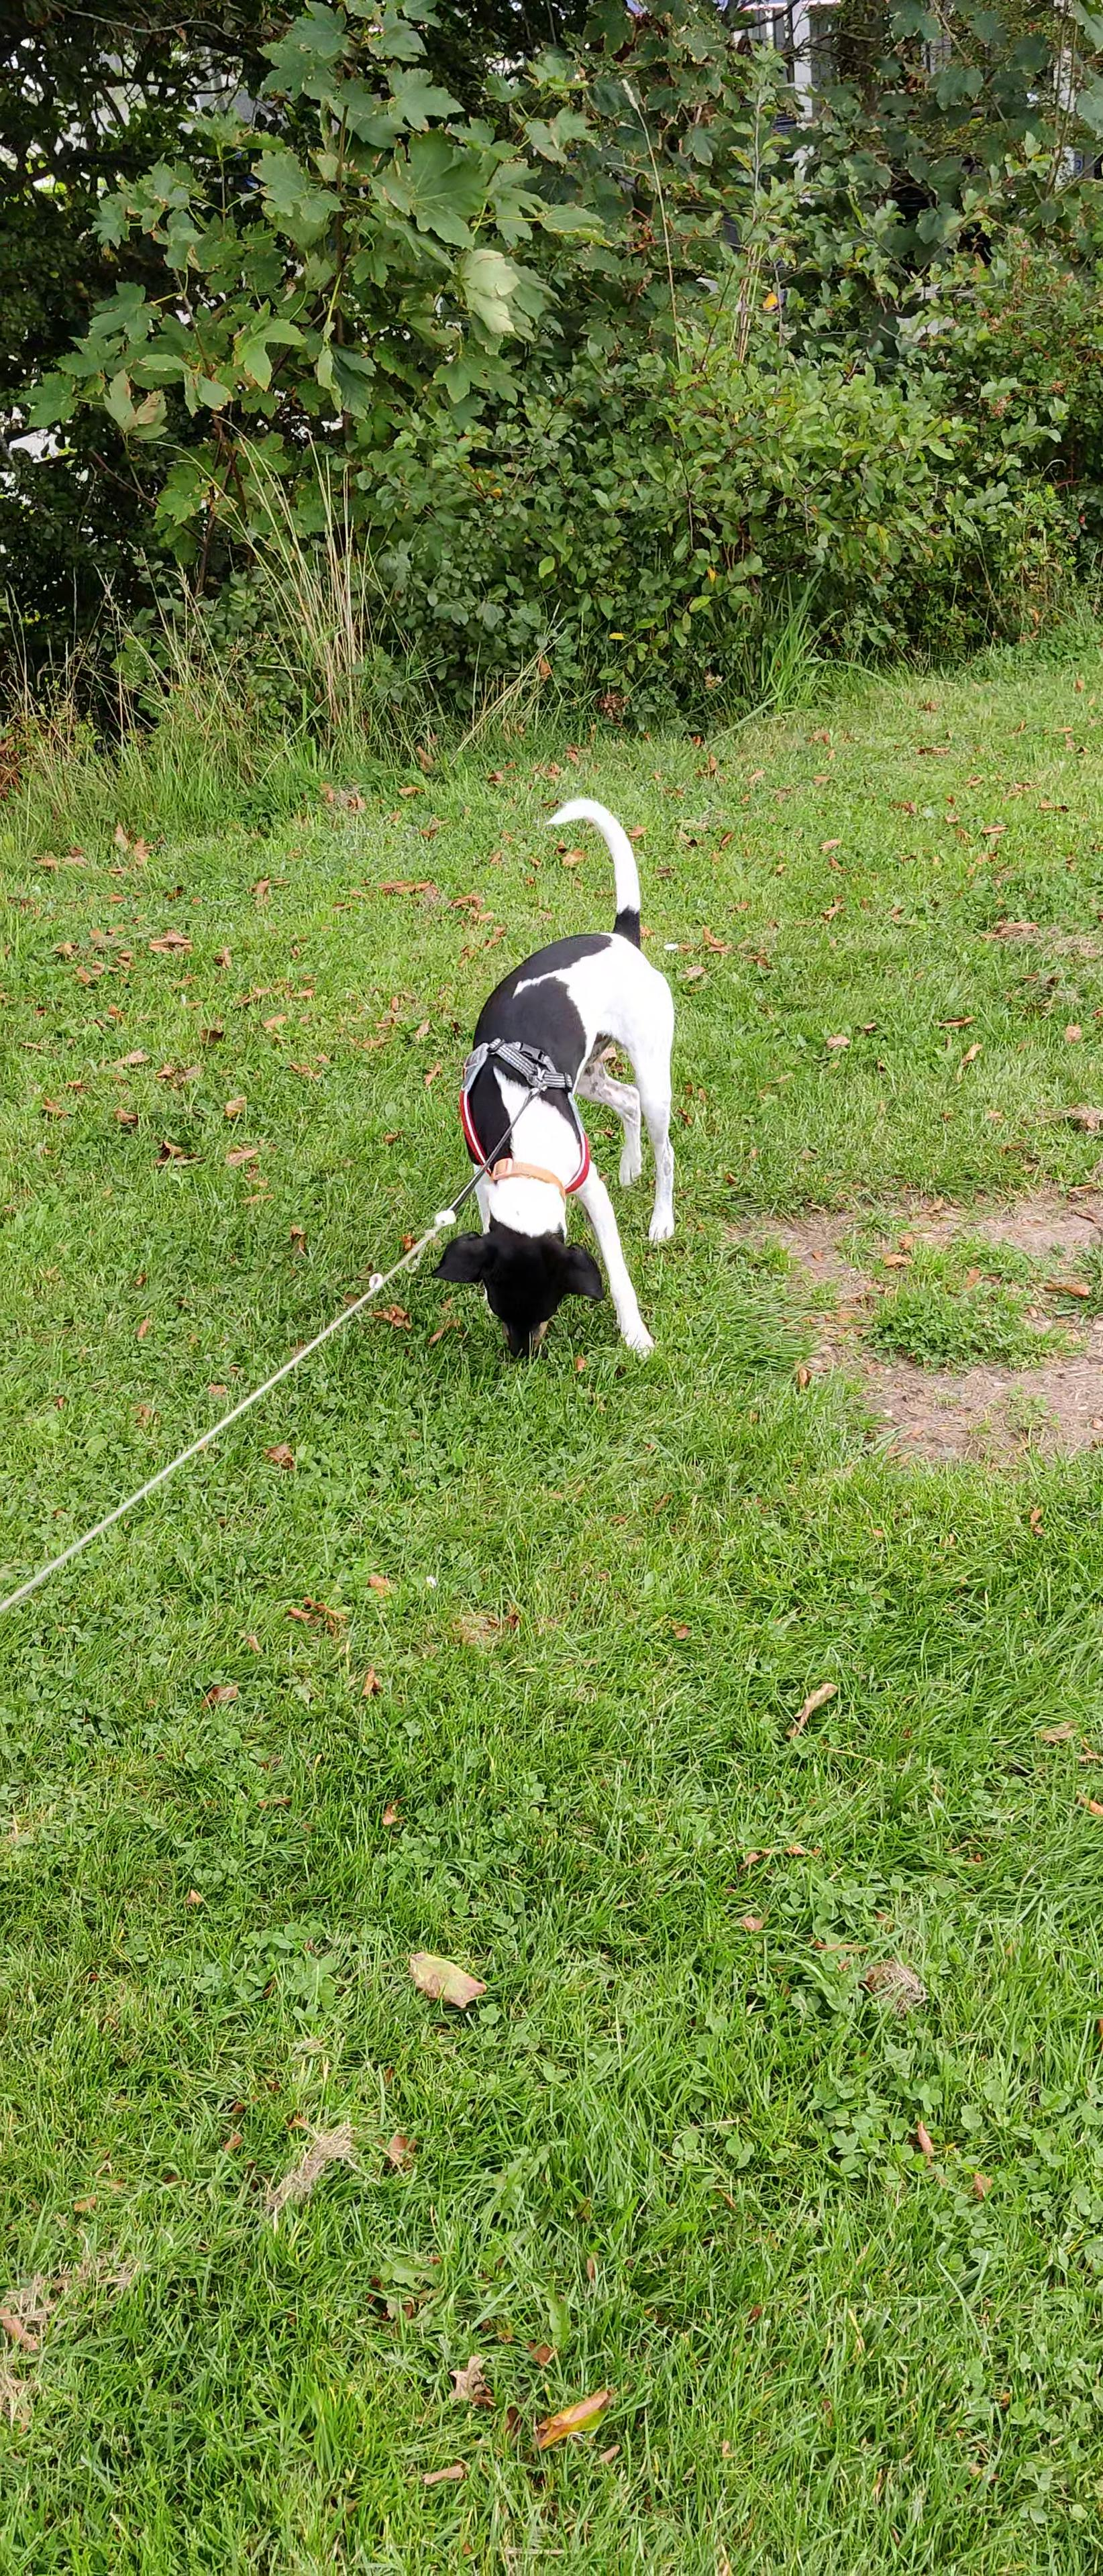Dog: (422, 789, 712, 1388)
